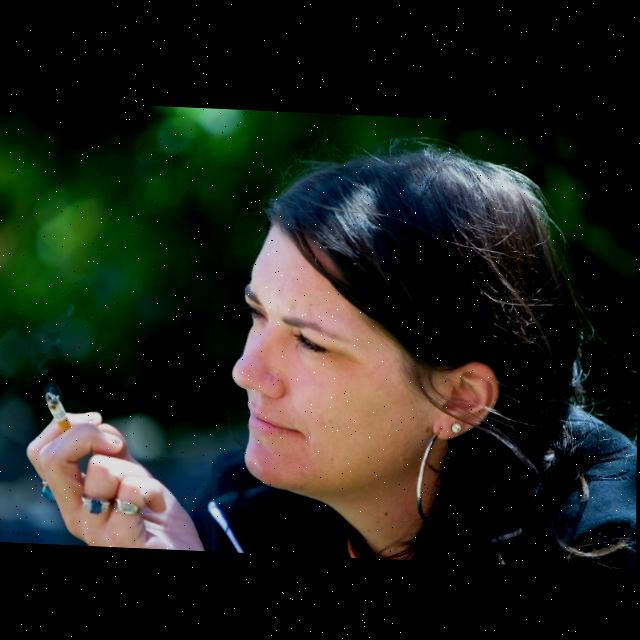cigarette: (45, 392, 72, 433)
